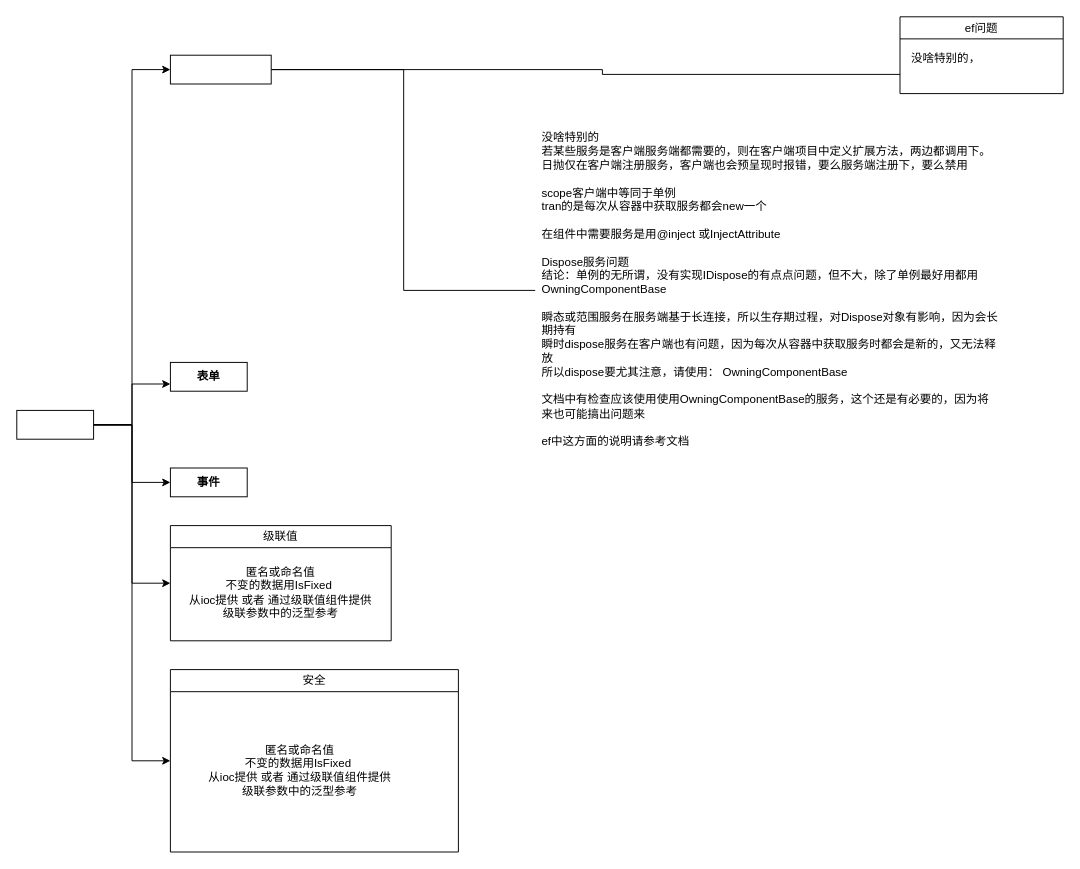
This 1080x869 diagram has some shape labels left out. The centre of each missing label's shape, as x and y in pixels:
Blazor: (55,424)
Organization: (220,69)
